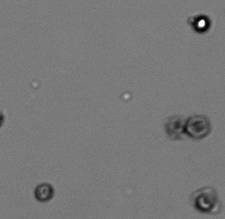Dead Cell: (185, 115, 210, 139), (194, 190, 215, 212), (166, 117, 185, 136), (35, 183, 53, 202)
Living Cell: (192, 14, 211, 33)
